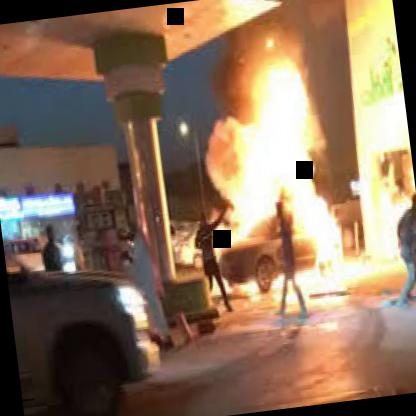fire: (176, 28, 342, 314)
